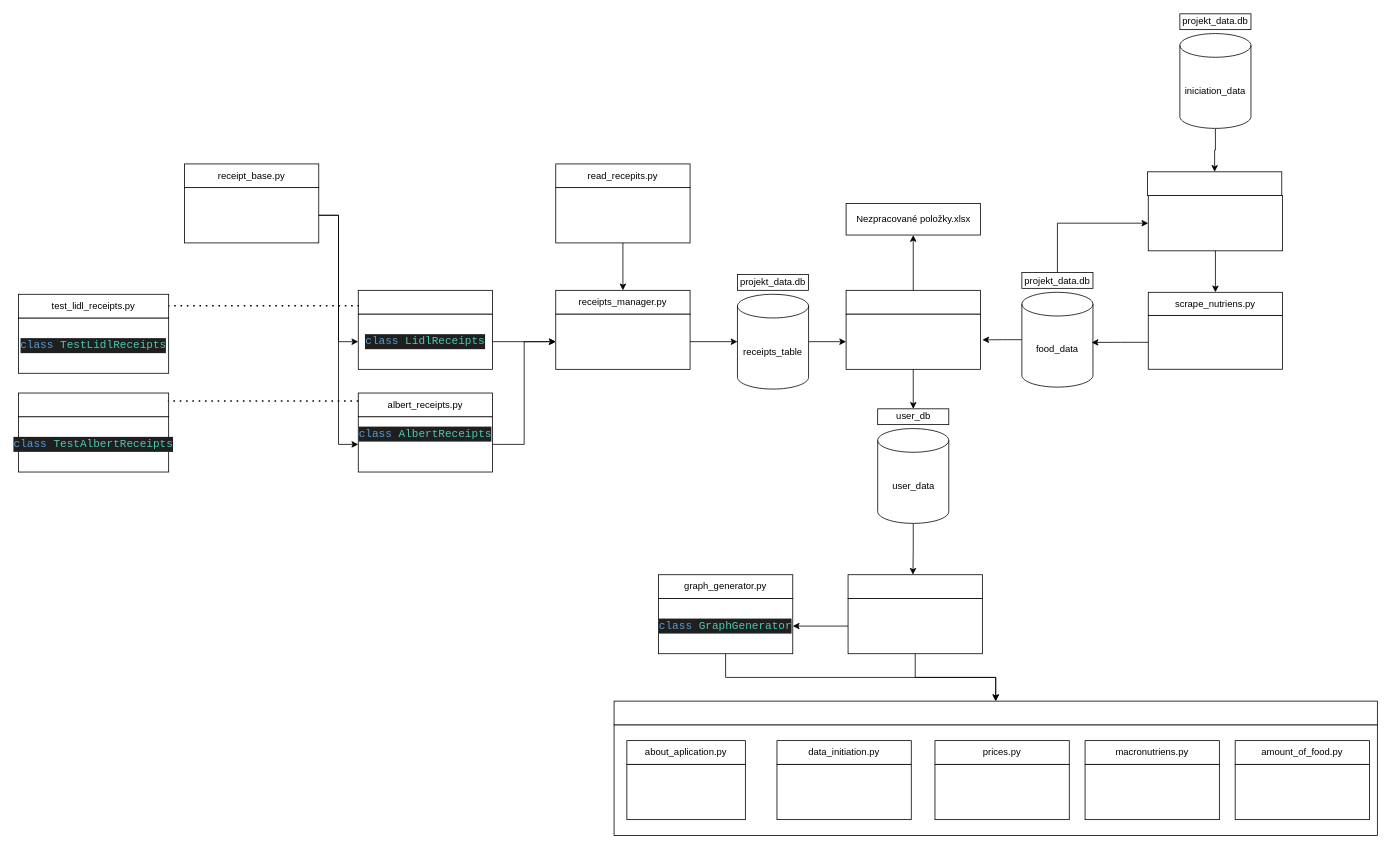
The diagram is 1391 pixels wide and 849 high, and some of its shapes have lost their labels. The centre of each missing label's shape, as x and y in pixels:
"app.py" belongs at (x=995, y=712).
"class FoodForScraping" belongs at (x=1215, y=223).
"class MainDataStore" belongs at (x=912, y=341).
"class PngReader class PdfReader" belongs at (x=622, y=215).
"class ProcesData" belongs at (x=914, y=626).
"class Receipts" belongs at (x=251, y=215).
"class ReceiptsManager" belongs at (x=622, y=341).
"class ScrapeNutriens" belongs at (x=1215, y=342).
"food_for_scraping.py" belongs at (x=1214, y=183).
"lidl_receipts.py" belongs at (x=425, y=302).
"main_data_store.py" belongs at (x=912, y=302).
"proces_data.py" belongs at (x=914, y=586).
"test_albert_receipts.py" belongs at (x=93, y=404).
